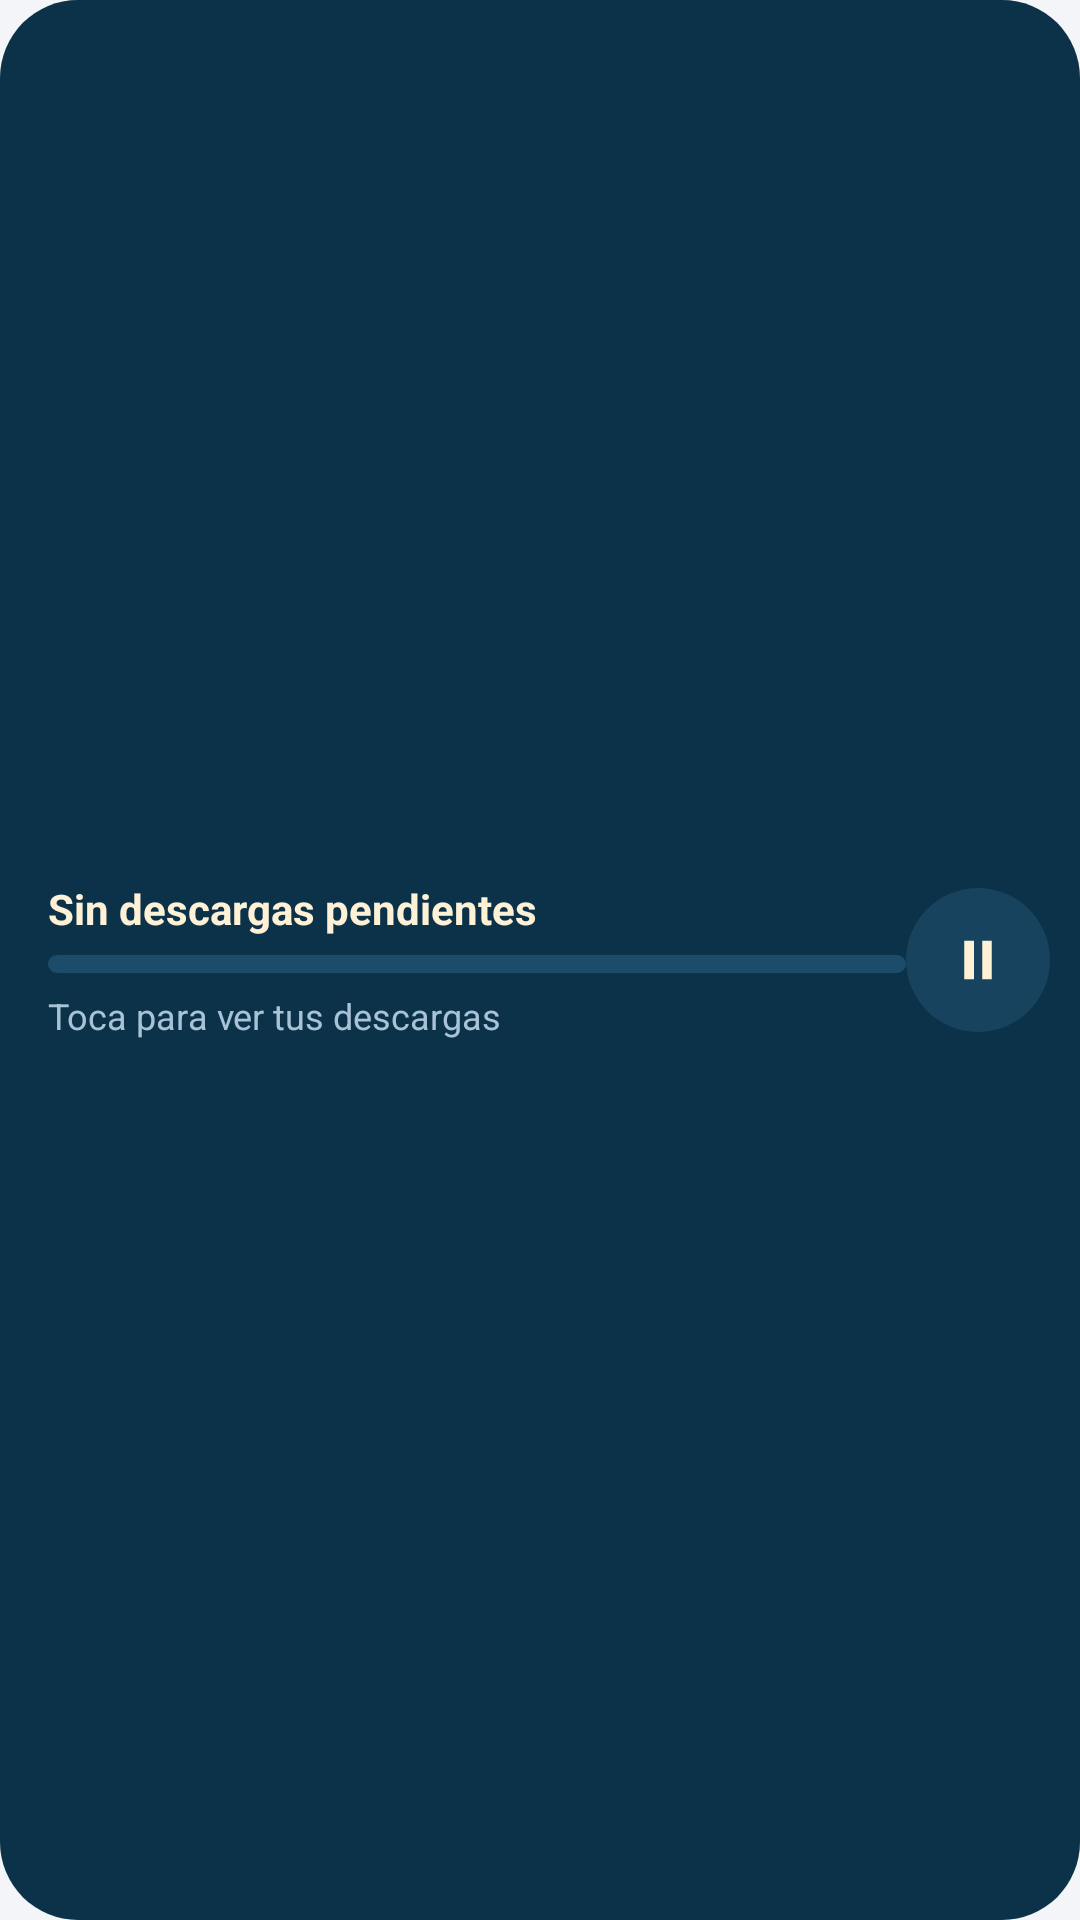

Icon bounding boxes for this 1080 × 1920 phone screenshot, format detection(x1, y1, x2, y2):
Pausar o seguir las descargas: detection(964, 940, 992, 980)
